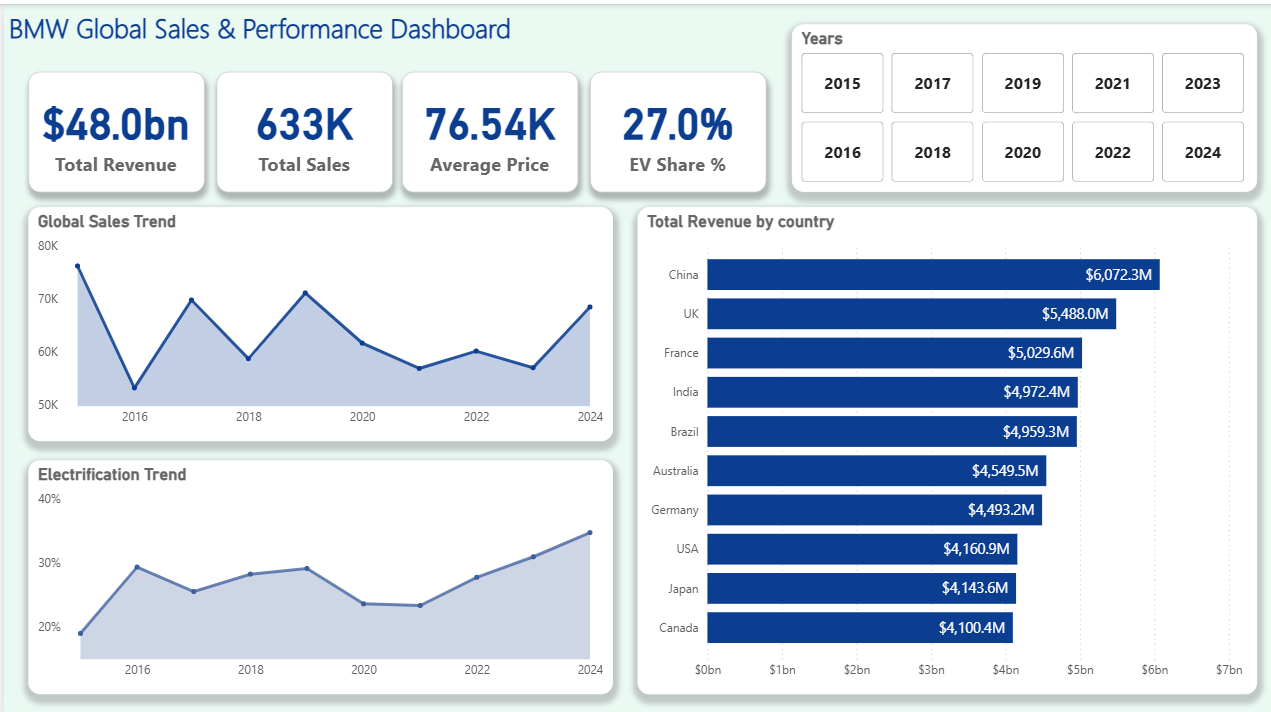

Layout of this report page (visuals, bound fields, positions):
{"tool":"powerbi","page":{"name":"Executive Overview","canvas":[1280,720],"ordinal":0},"visuals":[{"type":"card","title":"Total Sales","fields":{"Values":["bmw_analytics bmw_sales.Total Sales"]},"box":[214.6,68.3,177.7,121.6],"z":0},{"type":"textbox","box":[0,0,828.3,62.9],"z":1000},{"type":"card","title":"Total Sales","fields":{"Values":["bmw_analytics bmw_sales.Total Revenue"]},"box":[24.6,68.3,177.7,121.6],"z":2000},{"type":"card","title":"Total Sales","fields":{"Values":["bmw_analytics bmw_sales.EV Share %"]},"box":[591.8,68.3,177.7,121.6],"z":3000},{"type":"card","title":"Total Sales","fields":{"Values":["bmw_analytics bmw_sales.Average Price"]},"box":[401.8,68.3,177.7,121.6],"z":4000},{"type":"lineChart","title":"Global Sales Trend","fields":{"Category":["bmw_analytics bmw_sales.date.Variation.Date Hierarchy.Year","bmw_analytics bmw_sales.date.Variation.Date Hierarchy.Quarter","bmw_analytics bmw_sales.date.Variation.Date Hierarchy.Month","bmw_analytics bmw_sales.date.Variation.Date Hierarchy.Day"],"Y":["bmw_analytics bmw_sales.Total Sales"]},"box":[24.6,205,590.5,236.5],"z":5000},{"type":"lineChart","title":"Electrification Trend","fields":{"Category":["bmw_analytics bmw_sales.date.Variation.Date Hierarchy.Year","bmw_analytics bmw_sales.date.Variation.Date Hierarchy.Quarter","bmw_analytics bmw_sales.date.Variation.Date Hierarchy.Month","bmw_analytics bmw_sales.date.Variation.Date Hierarchy.Day"],"Y":["bmw_analytics bmw_sales.EV Share %"]},"box":[24.6,460.6,590.5,236.5],"z":6000},{"type":"clusteredBarChart","fields":{"Category":["bmw_analytics bmw_sales.country"],"Y":["bmw_analytics bmw_sales.Total Revenue"]},"box":[639.7,205,626,492.1],"z":7000},{"type":"advancedSlicerVisual","title":"Years","fields":{"Values":["bmw_analytics bmw_sales.year"]},"box":[795.5,20.5,470.2,169.5],"z":8001}]}

Visuals, with their boxes in screenshot pixels (x1, y1, x2, y2), scaled from the page's 1280x720 canvas onto the 1271x712 screenshot:
"Total Sales" card: <bbox>213, 68, 390, 188</bbox>
textbox: <bbox>0, 0, 822, 62</bbox>
"Total Sales" card: <bbox>24, 68, 201, 188</bbox>
"Total Sales" card: <bbox>588, 68, 764, 188</bbox>
"Total Sales" card: <bbox>399, 68, 575, 188</bbox>
"Global Sales Trend" lineChart: <bbox>24, 203, 611, 437</bbox>
"Electrification Trend" lineChart: <bbox>24, 455, 611, 689</bbox>
clusteredBarChart - bmw_analytics bmw_sales.country x bmw_analytics bmw_sales.Total Revenue: <bbox>635, 203, 1257, 689</bbox>
"Years" advancedSlicerVisual: <bbox>790, 20, 1257, 188</bbox>
